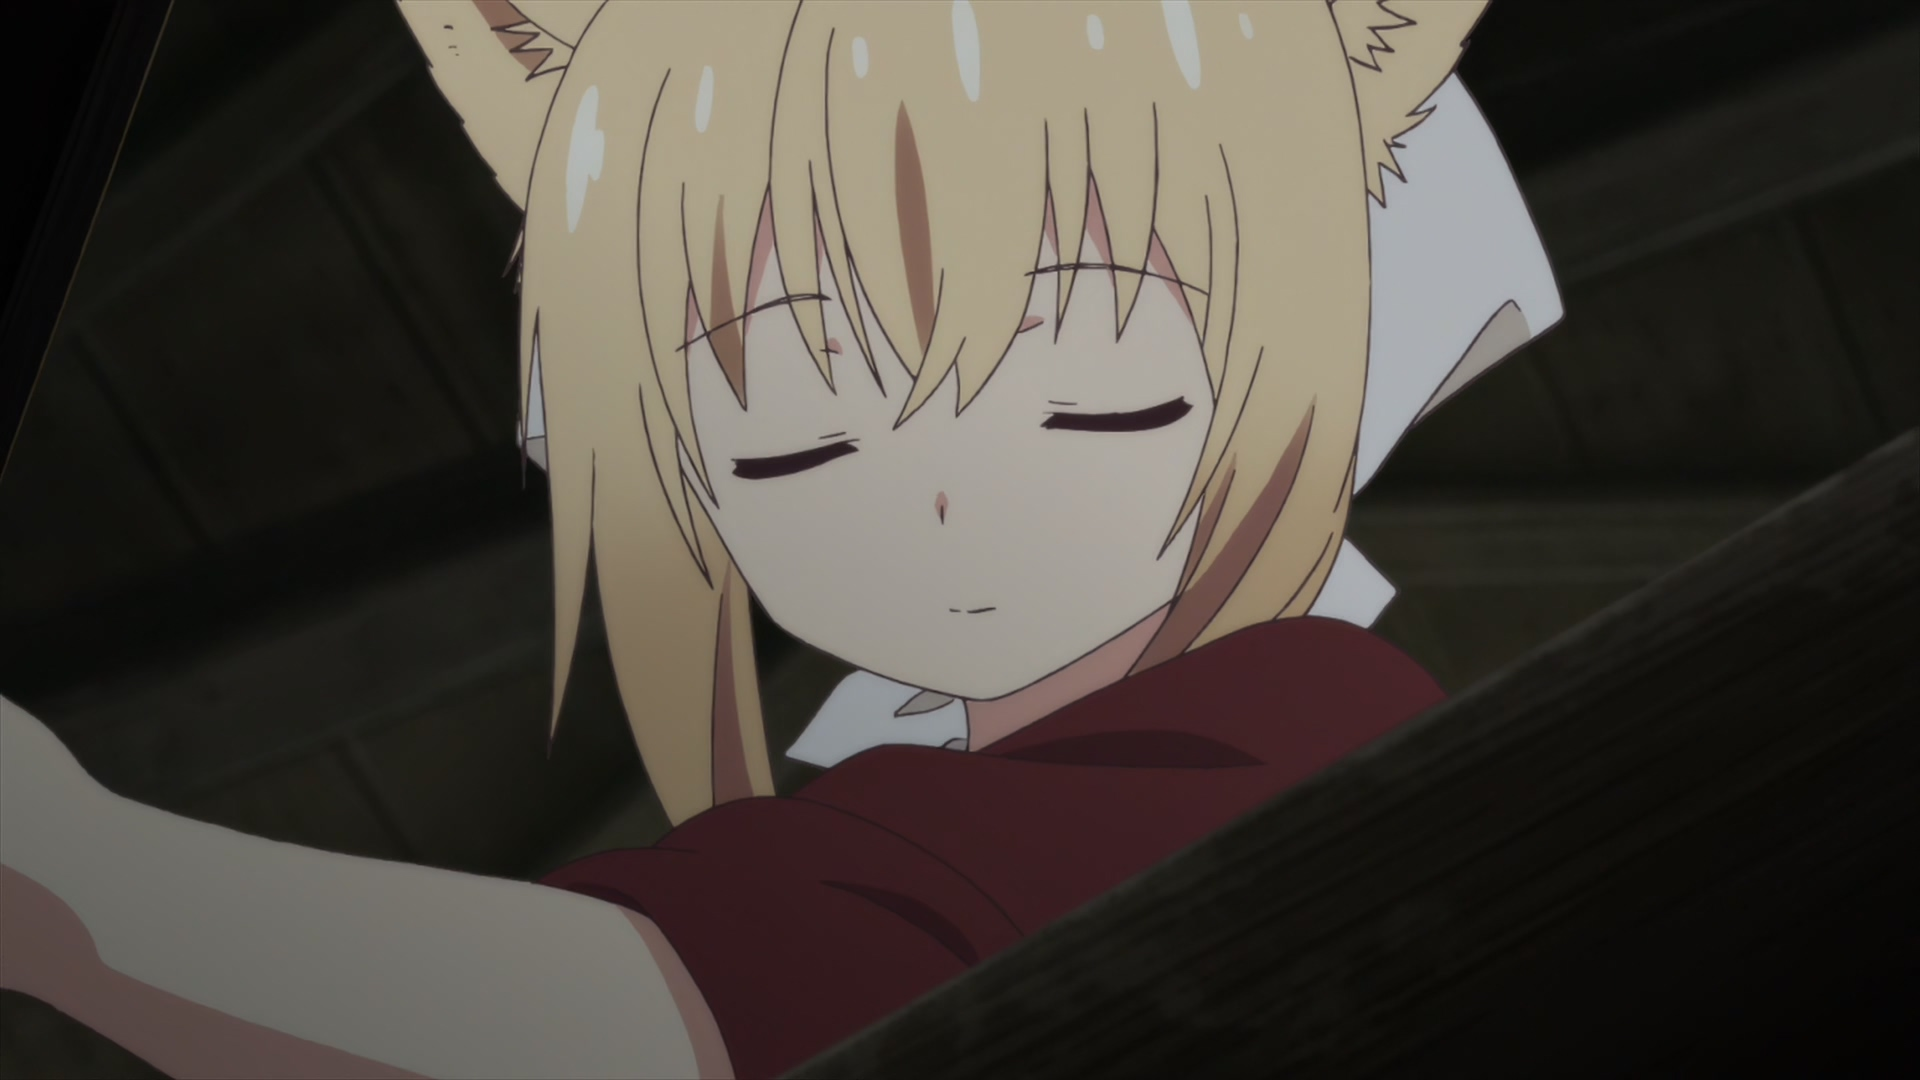柚: (1, 1, 1561, 1080)
